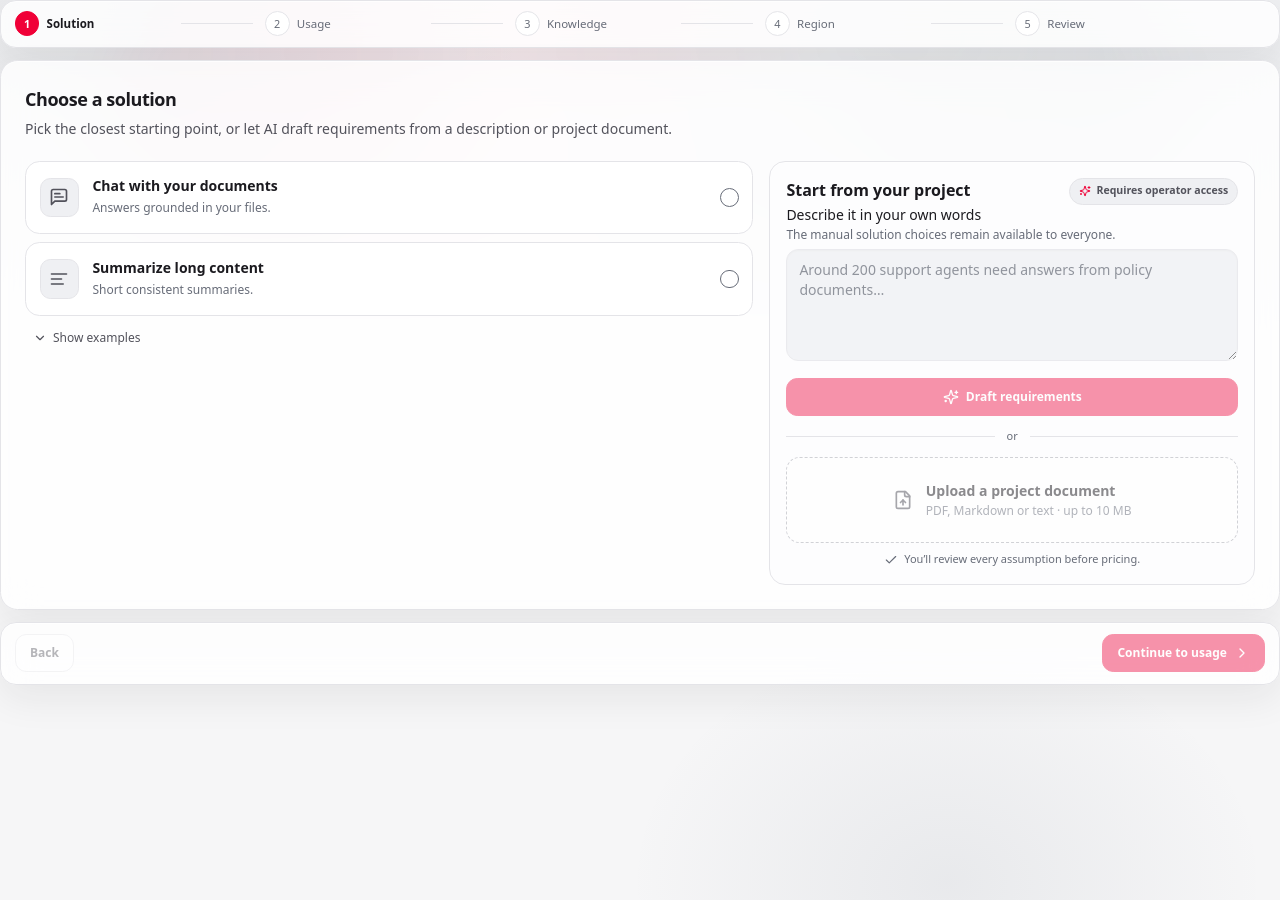
Test case: AI intake fails closed for viewers while the manual wizard remains available
The width and height of the screenshot is (1280, 900).
Check: the text "Requires operator access" is shown, box [1069,178,1238,205]
Check: the text box with placeholder "support agents" is disabled, box [786,249,1238,361]
Click the radio button labelled "Summarize long content Short consistent summaries.".
click(59, 279)  # box [25,242,753,316]
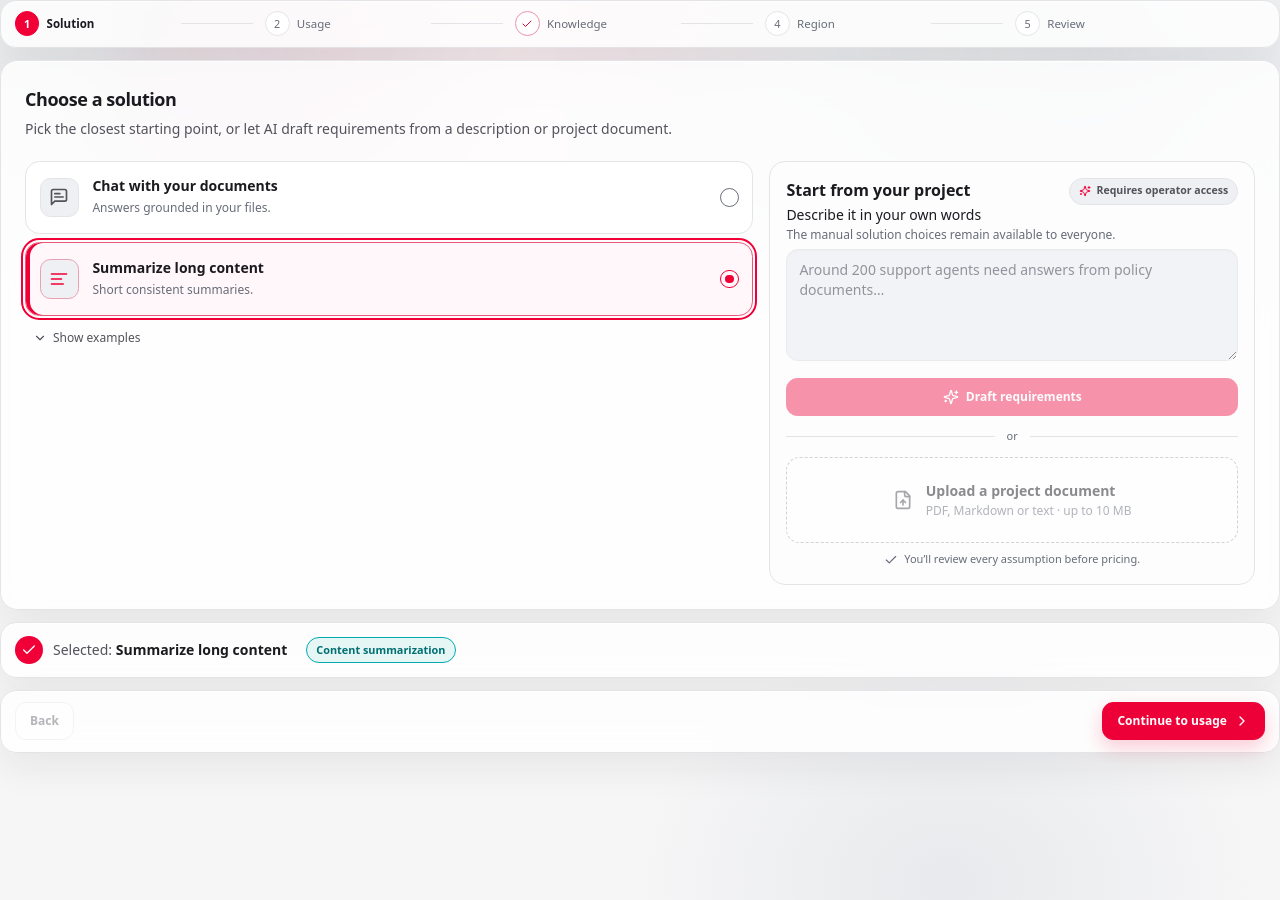
Check: the button "Continue to usage" is enabled, box [1102,702,1265,740]
